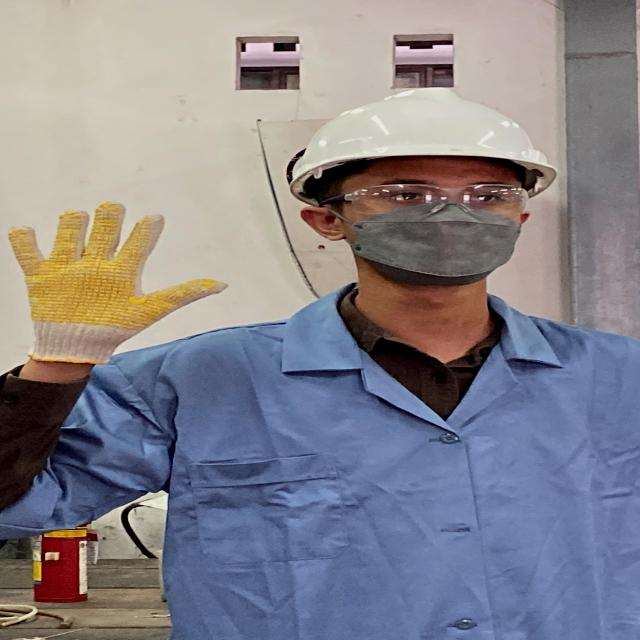face_mask: (334, 174, 540, 276)
glasses: (315, 178, 538, 218)
hand_glove: (0, 195, 252, 369)
head_helmet: (268, 84, 564, 192)
person: (0, 78, 640, 640)
